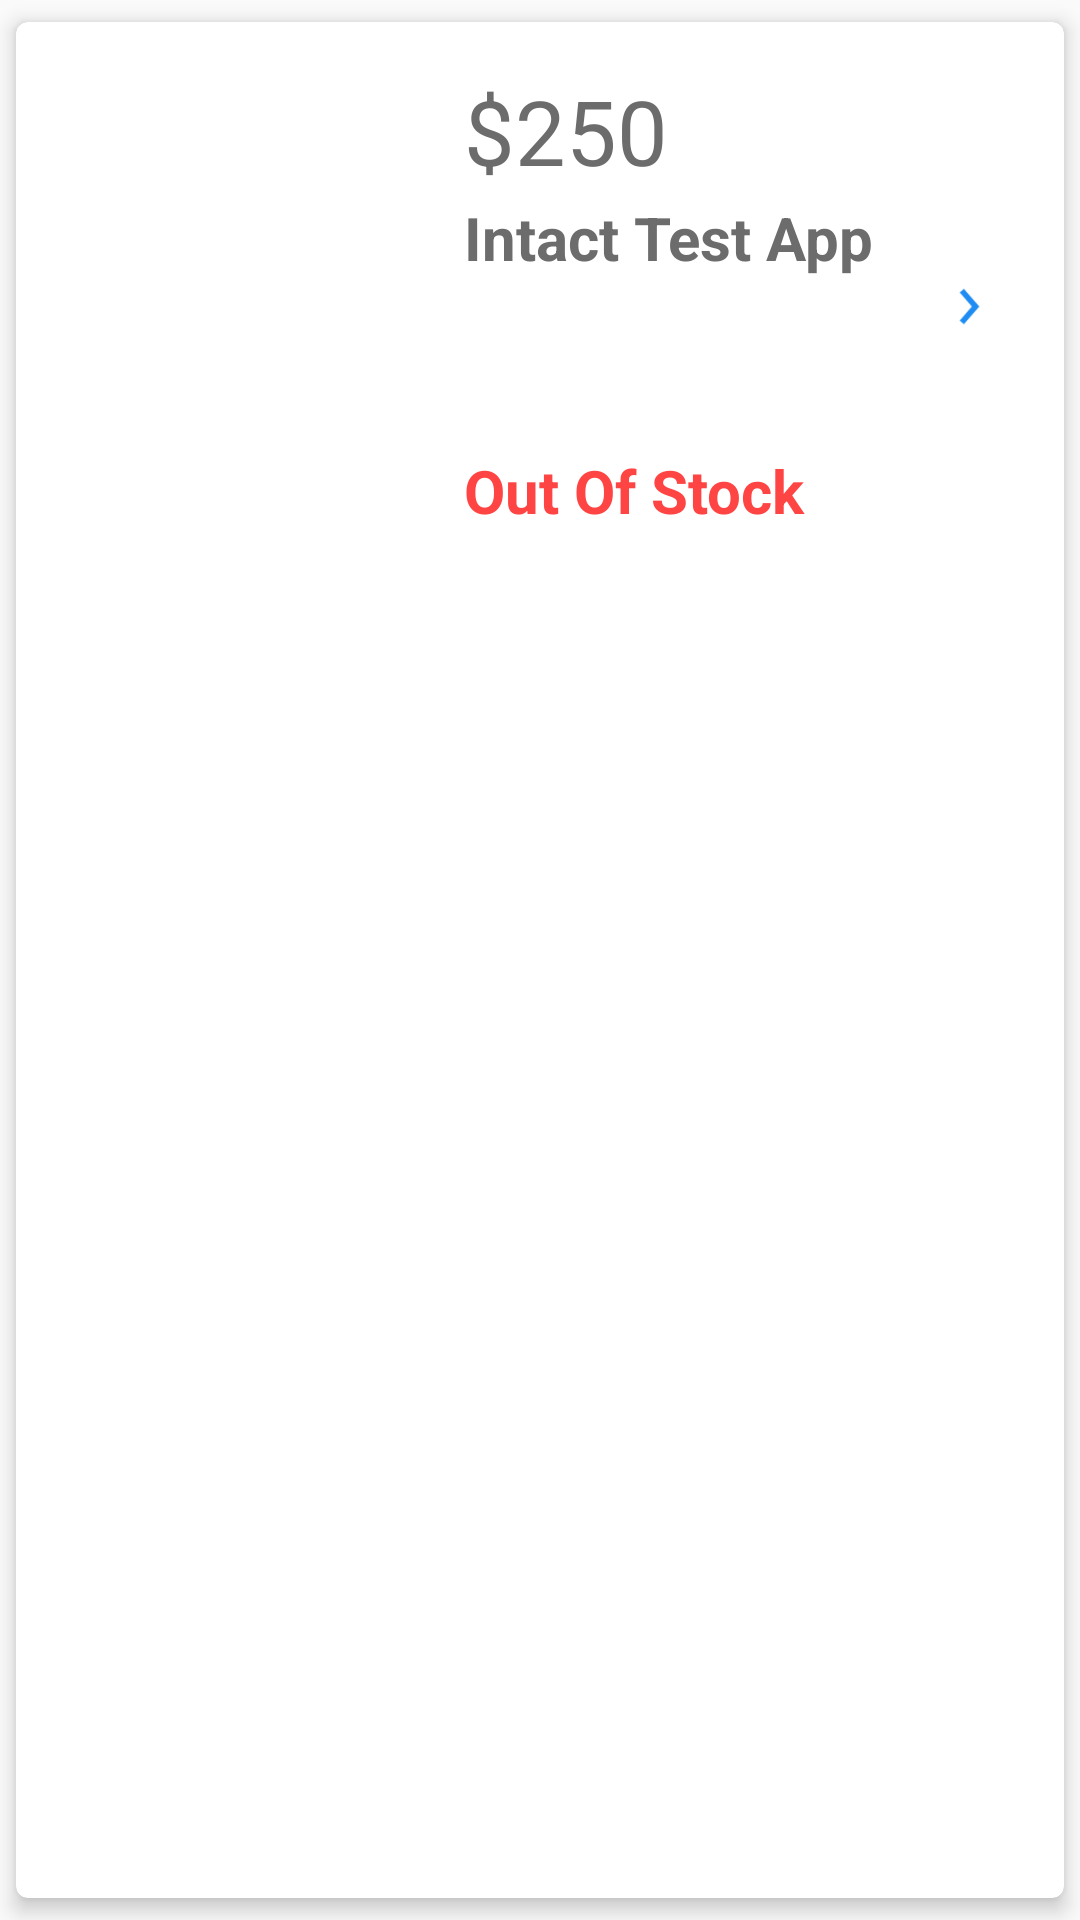

Icon click points for this 1080w x 1920h phone screenshot, format [x,y]:
next: [969,307]
